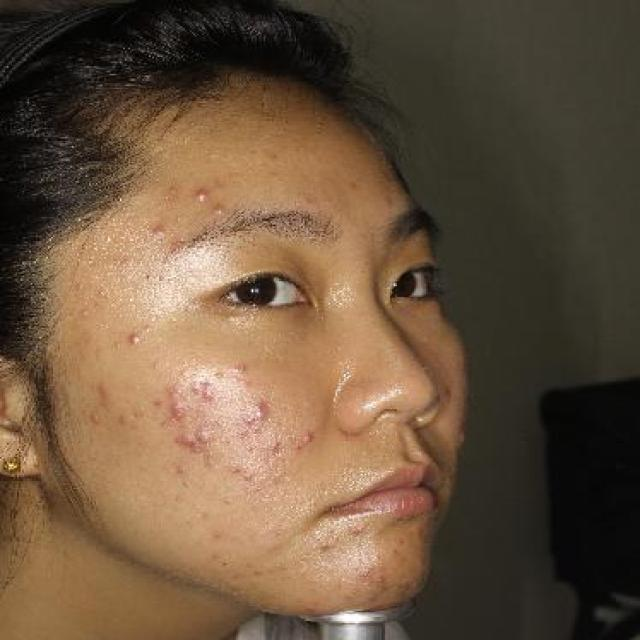papules: (120, 323, 154, 352), (244, 398, 276, 424), (192, 382, 219, 408), (166, 395, 192, 420), (195, 422, 221, 444), (186, 186, 218, 203), (144, 222, 173, 240), (296, 428, 320, 448), (174, 432, 198, 452), (212, 200, 235, 218)
